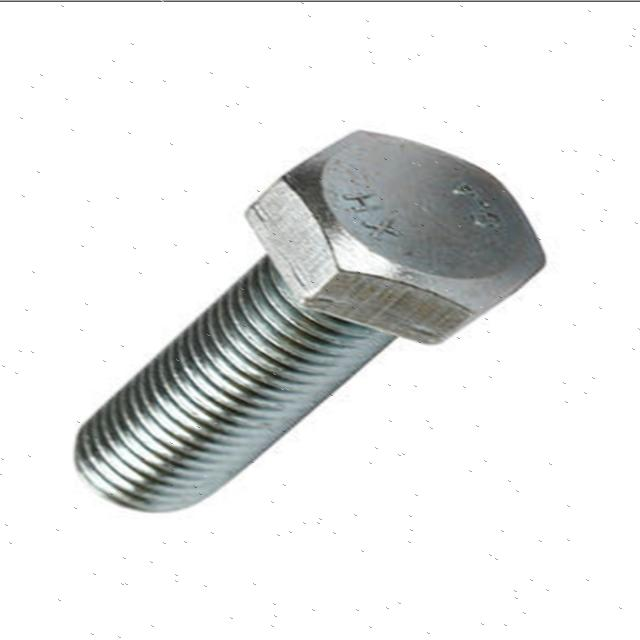Bolt: (70, 125, 550, 513)
